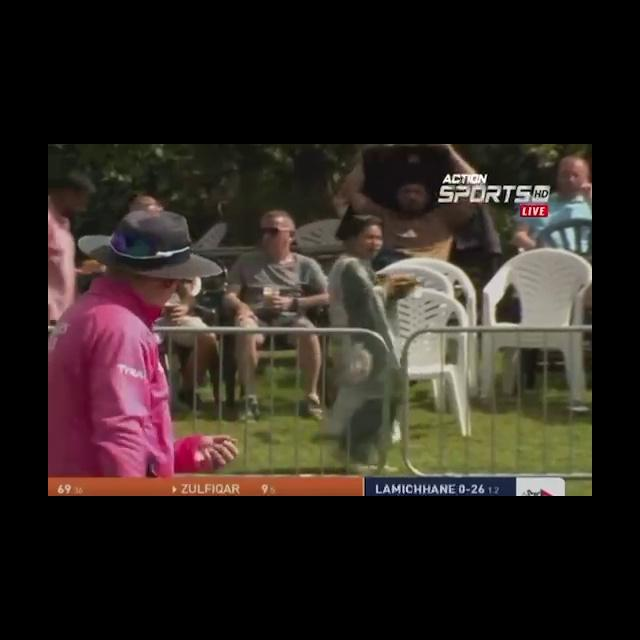umpire: (59, 181, 288, 474)
